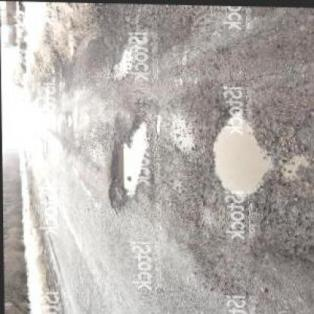Hueco: (208, 109, 270, 200), (104, 111, 150, 208)
